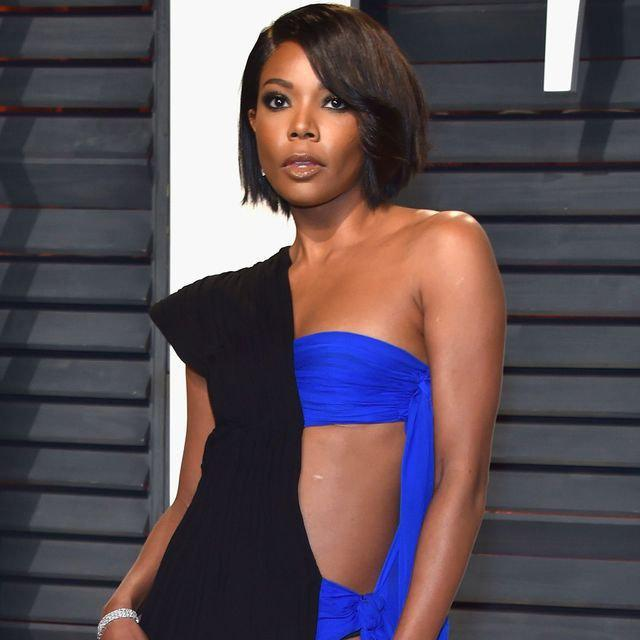Sober: (258, 52, 368, 191)
